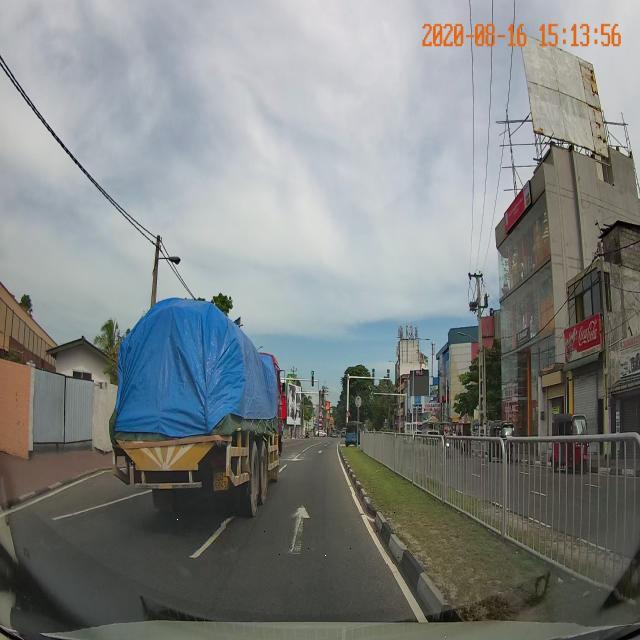forward: (173, 494, 401, 564)
